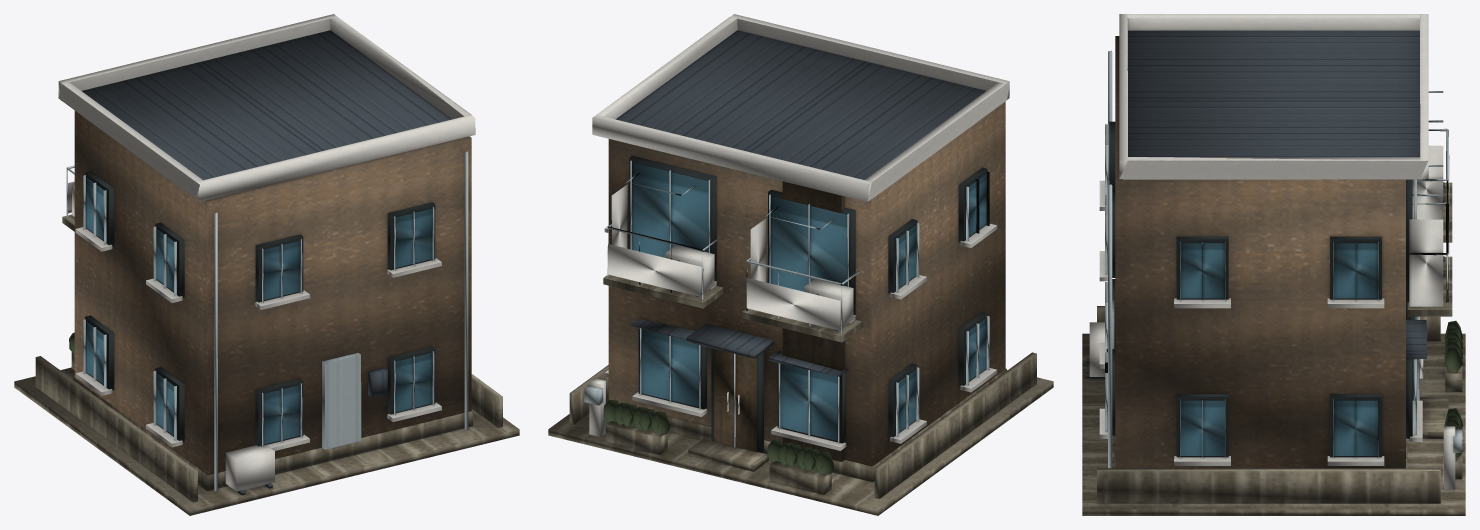
The model's file is residential_004.obj.
The picture shows the model from 3 angles, left to right: view 1: azimuth 30°, elevation 25°; view 2: azimuth 150°, elevation 25°; view 3: azimuth 270°, elevation 25°; orthographic projection. The views are drawn at different scales.
Visible parts, largest first — view 1: residential_004; view 2: residential_004; view 3: residential_004.
Part boxes in pixels (<box>): residential_004: <box>14,14,519,515</box>; residential_004: <box>548,14,1053,515</box>; residential_004: <box>1082,14,1465,515</box>.
Size of the model in its own units: 7.39 by 6.68 by 6.82.
1 material, 1 textured.
